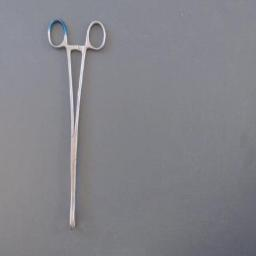Sponge Forceps: (42, 15, 110, 235)
